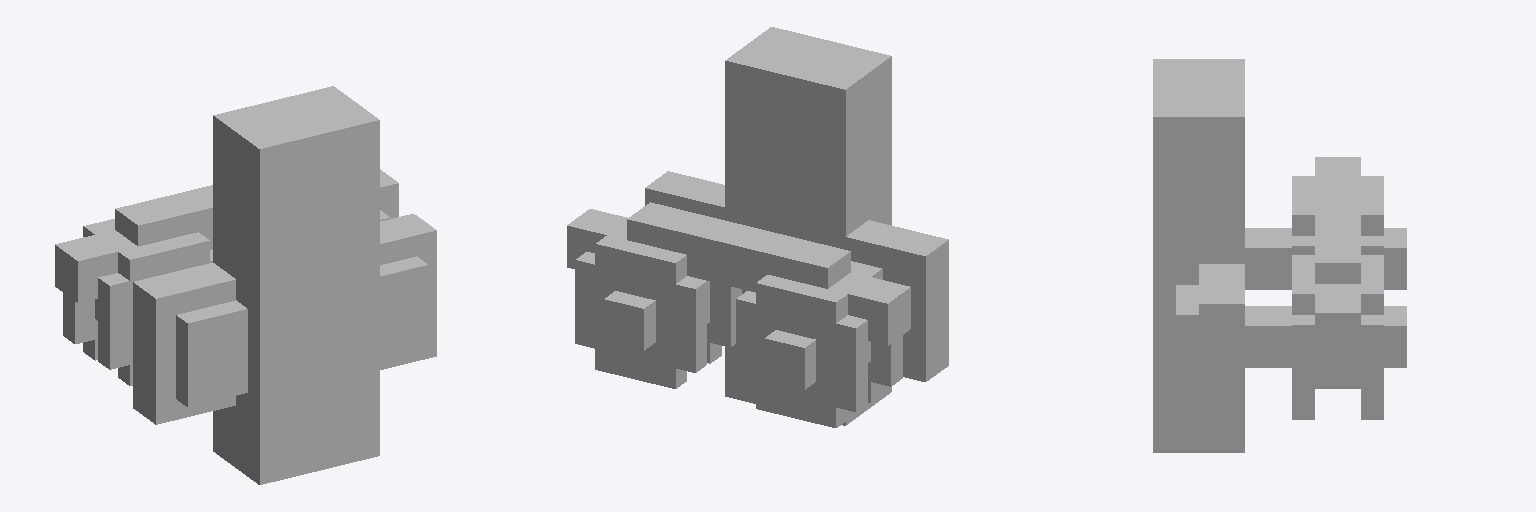
The model's file is chair_lift_pole_arm_end_row.obj.
3 views of the same model, side by side, from view 1: azimuth 30°, elevation 25°; view 2: azimuth 150°, elevation 25°; view 3: azimuth 270°, elevation 25° (orthographic).
Parts seen in each view (by area): view 1: node_0_0_0.018; view 2: node_0_0_0.018; view 3: node_0_0_0.018.
Boxes of the visible parts, <box> form: node_0_0_0.018: <box>55,86,436,484</box>; node_0_0_0.018: <box>567,27,948,427</box>; node_0_0_0.018: <box>1153,59,1406,452</box>.
Bounding box in the file's own units: 1 × 1 × 0.6875.